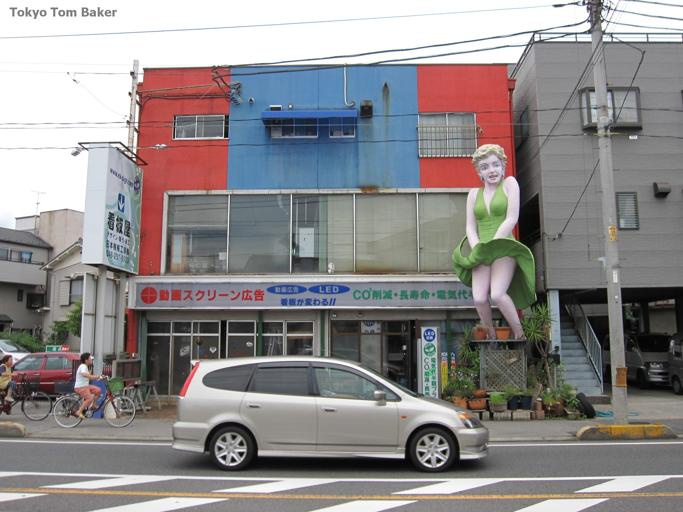non-vehicle: (52, 374, 136, 429), (0, 372, 52, 421)
